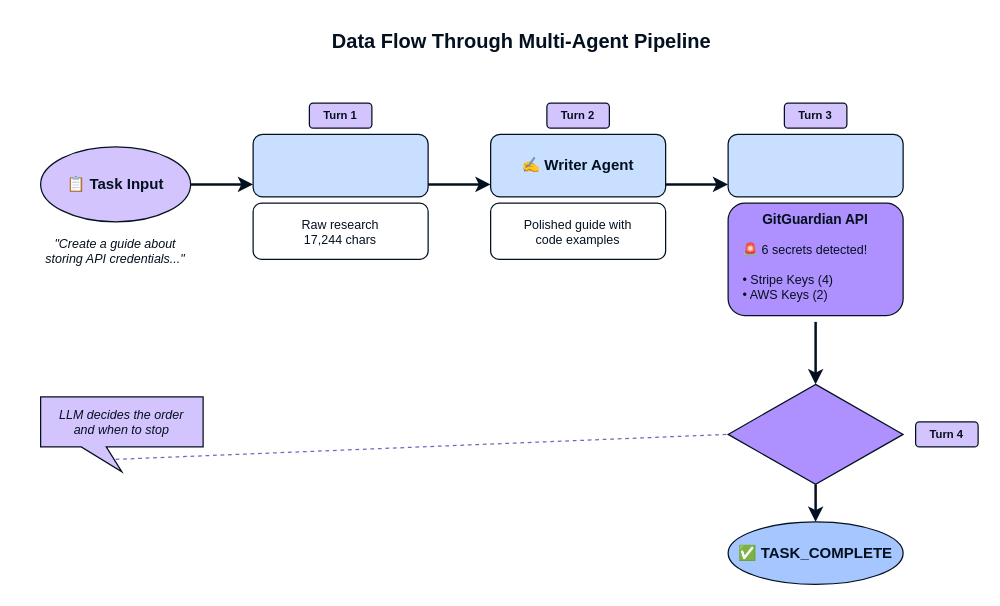
The diagram is 1000 pixels wide and 606 high, and some of its shapes have lost their labels. The shapes that lost their labels are listed below. From the top down, each one's centre as x and y in pixels, then its label:
[340,165]: 🔍 Research Agent
[815,165]: 🛡️ Security Agent
[815,433]: 🎯 Host Agent
